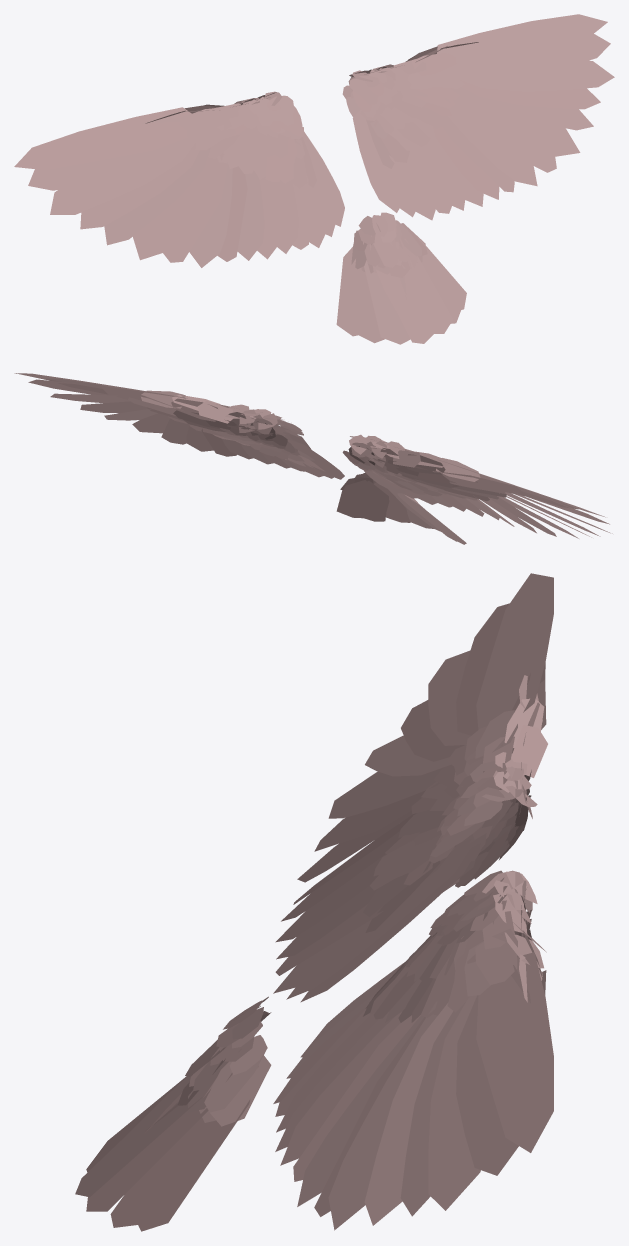
File: Crow_Feathers_Unrigged.fbx
3 views of the same model, one above another, from view 1: azimuth 30°, elevation 25°; view 2: azimuth 150°, elevation 25°; view 3: azimuth 270°, elevation 25° (orthographic). The views are drawn at different scales.
Visible parts, largest first — view 1: Plane.020, Plane.031, Plane.057, Plane.051, Plane.056, Plane.053, Plane.058, Plane.059, Plane.061, Plane.062, Plane.129, Plane.060 (+24 smaller); view 2: Plane.131, Plane.155, Plane.171, Plane.058, Plane.053, Plane.170, Plane.031, Plane.057, Plane.024, Plane.168, Plane.059, Plane.129 (+21 smaller); view 3: Plane.020, Plane.051, Plane.031, Plane.057, Plane.056, Plane.053, Plane.059, Plane.061, Plane.129, Plane.065, Plane.062, Plane.130 (+20 smaller).
Boxes of the visible parts, <box> form: Plane.020: <box>14,14,607,170</box>; Plane.031: <box>28,34,610,190</box>; Plane.057: <box>133,95,580,260</box>; Plane.051: <box>50,60,614,214</box>; Plane.056: <box>104,87,593,245</box>; Plane.053: <box>80,79,600,229</box>; Plane.058: <box>163,106,556,262</box>; Plane.059: <box>189,115,537,267</box>; Plane.061: <box>237,126,499,260</box>; Plane.062: <box>257,136,483,259</box>; Plane.129: <box>364,256,452,344</box>; Plane.060: <box>217,116,514,261</box>; Plane.131: <box>336,480,466,544</box>; Plane.155: <box>44,378,578,509</box>; Plane.171: <box>141,390,480,481</box>; Plane.058: <box>161,418,556,536</box>; Plane.053: <box>80,401,600,536</box>; Plane.170: <box>197,401,420,467</box>; Plane.031: <box>28,379,609,524</box>; Plane.057: <box>132,413,578,538</box>; Plane.024: <box>287,439,405,493</box>; Plane.168: <box>171,398,445,474</box>; Plane.059: <box>186,425,536,533</box>; Plane.129: <box>374,482,440,531</box>; Plane.020: <box>476,573,553,1152</box>; Plane.051: <box>428,650,480,1210</box>; Plane.031: <box>456,603,530,1175</box>; Plane.057: <box>328,767,444,1230</box>; Plane.056: <box>364,735,452,1225</box>; Plane.053: <box>400,700,465,1216</box>; Plane.059: <box>297,810,424,1206</box>; Plane.061: <box>280,831,401,1165</box>; Plane.129: <box>86,1076,208,1211</box>; Plane.065: <box>273,839,470,1103</box>; Plane.062: <box>275,854,395,1151</box>; Plane.130: <box>110,1117,219,1227</box>.
Bounding box in the file's own units: 113 × 33.3 × 39.33.
